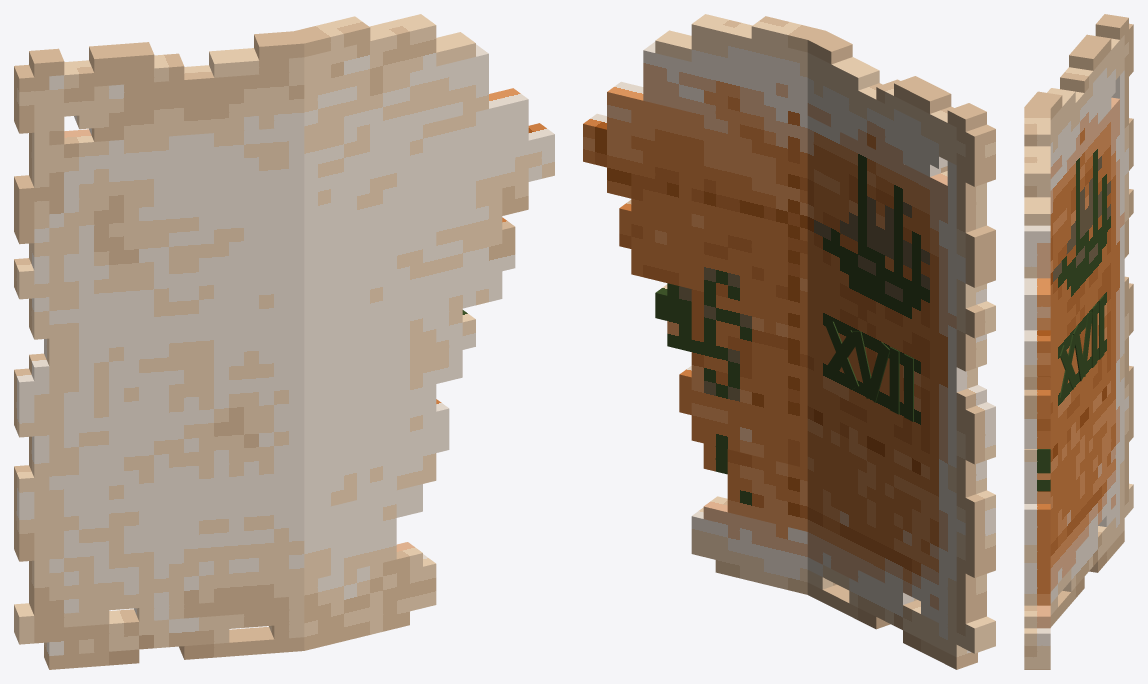
File: lost_page_06Q_XVII.gltf
The picture shows the model from 3 angles, left to right: view 1: azimuth 30°, elevation 25°; view 2: azimuth 150°, elevation 25°; view 3: azimuth 270°, elevation 25°; orthographic projection. The views are drawn at different scales.
Visible parts, largest first — view 1: MapLeft$$(4)-Local, MapCenter$$(4)-Local; view 2: MapLeft$$(4)-Local, MapCenter$$(4)-Local, I-Local, V02$$(1)-Local, V01-Local, II-Local, V01$$(1)-Local; view 3: MapLeft$$(4)-Local, MapCenter$$(4)-Local, I-Local, II-Local, V01$$(1)-Local, V01-Local, V02$$(1)-Local, V02-Local.
Part boxes in pixels (<box>): MapLeft$$(4)-Local: <box>14,31,304,669</box>; MapCenter$$(4)-Local: <box>294,14,554,650</box>; MapLeft$$(4)-Local: <box>805,31,995,669</box>; MapCenter$$(4)-Local: <box>583,14,825,594</box>; I-Local: <box>889,347,899,414</box>; V02$$(1)-Local: <box>866,342,889,402</box>; V01-Local: <box>825,321,858,389</box>; II-Local: <box>904,354,913,421</box>; V01$$(1)-Local: <box>852,331,874,398</box>; MapLeft$$(4)-Local: <box>1025,14,1133,627</box>; MapCenter$$(4)-Local: <box>1024,107,1050,669</box>; I-Local: <box>1091,304,1097,367</box>; II-Local: <box>1099,295,1104,359</box>; V01$$(1)-Local: <box>1073,325,1085,381</box>; V01-Local: <box>1060,345,1076,389</box>; V02$$(1)-Local: <box>1082,312,1092,376</box>; V02-Local: <box>1059,334,1075,400</box>.
Size of the model in its own units: 36.85 by 44 by 8.38.
Materials: 8 (8 with a texture image).
